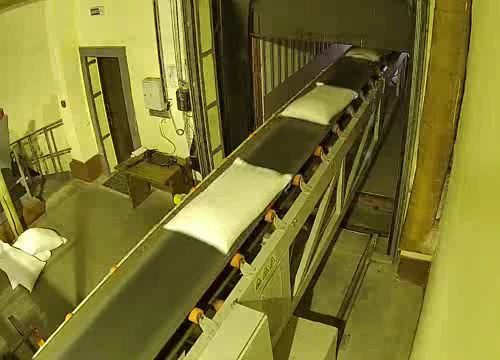bag: (163, 158, 294, 257), (277, 82, 361, 126), (345, 45, 391, 62)
